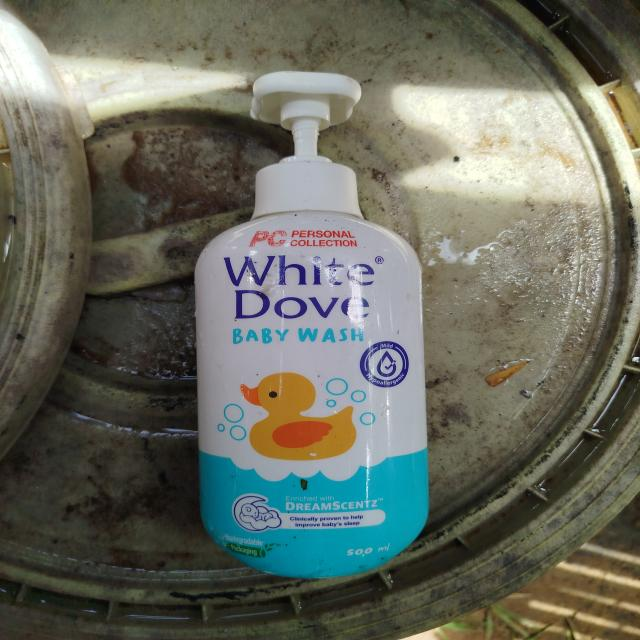plastic: (179, 61, 455, 589)
